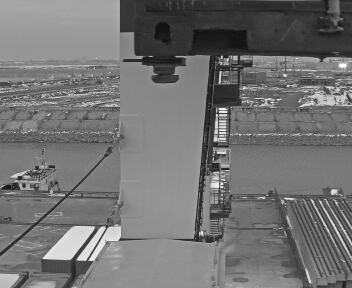twist_lock_1: (133, 50, 191, 90)
